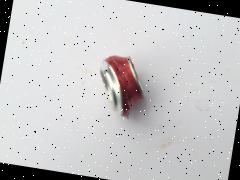metal: (71, 34, 180, 154)
